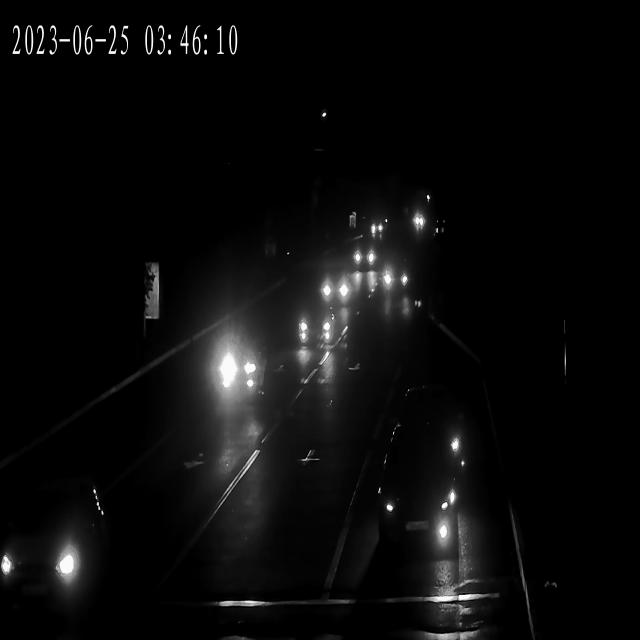Car: (1, 478, 123, 615), (376, 458, 462, 553), (382, 386, 466, 476), (203, 330, 265, 398), (290, 302, 336, 343), (316, 270, 356, 307), (373, 262, 411, 296), (349, 240, 379, 268), (369, 218, 387, 234)
